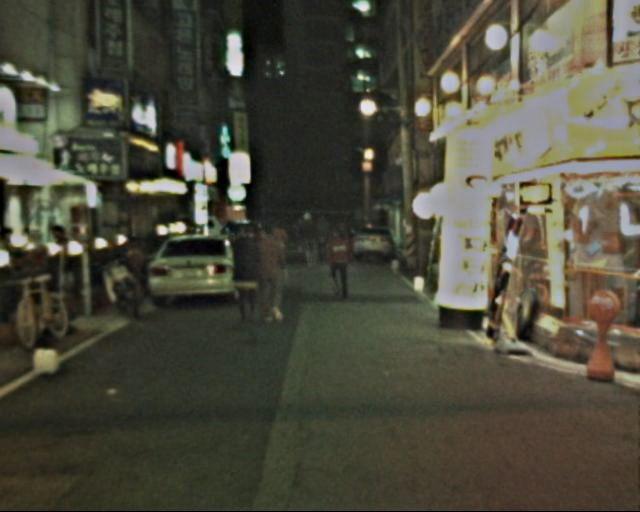person: (252, 225, 293, 333), (229, 224, 266, 334), (329, 223, 361, 299), (296, 207, 323, 272)
